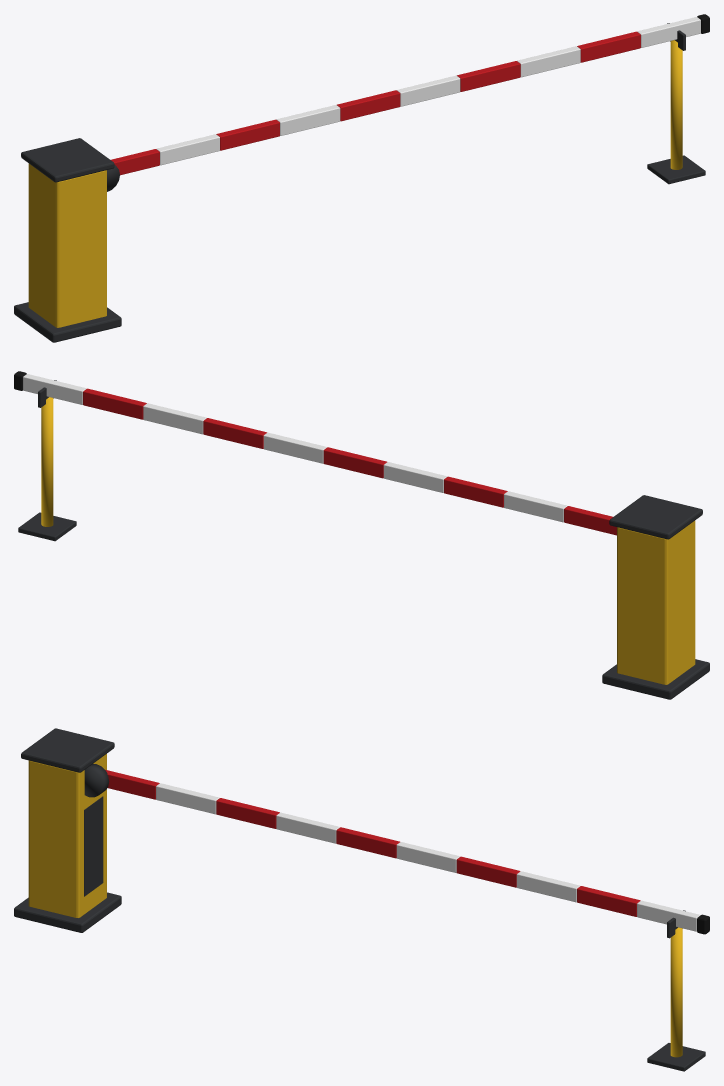
Rendered from boom_barrier.glb.
The picture shows the model from 3 angles, top to bottom: view 1: azimuth 30°, elevation 25°; view 2: azimuth 150°, elevation 25°; view 3: azimuth 330°, elevation 25°; orthographic projection.
Visible parts, largest first — view 1: Housing, ArmMesh, RestPost; view 2: Housing, ArmMesh, RestPost; view 3: Housing, ArmMesh, RestPost.
Boxes of the visible parts, box(x1,y1,x2,y2) form: Housing: box(14, 138, 121, 342); ArmMesh: box(107, 14, 709, 191); RestPost: box(647, 23, 705, 184); Housing: box(602, 495, 709, 699); ArmMesh: box(14, 371, 616, 535); RestPost: box(18, 380, 76, 541); Housing: box(14, 728, 121, 932); ArmMesh: box(84, 763, 709, 934); RestPost: box(647, 910, 705, 1071).
Bounding box in the file's own units: 4.49 × 1.04 × 0.46.
